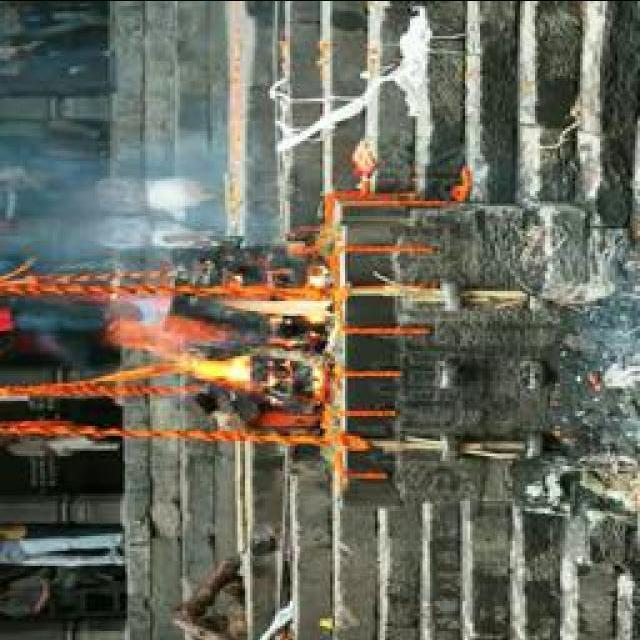Fire: (109, 288, 335, 381)
